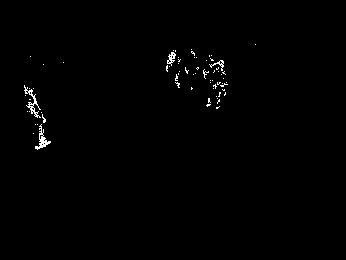person: (20, 83, 52, 150), (204, 55, 227, 109)
